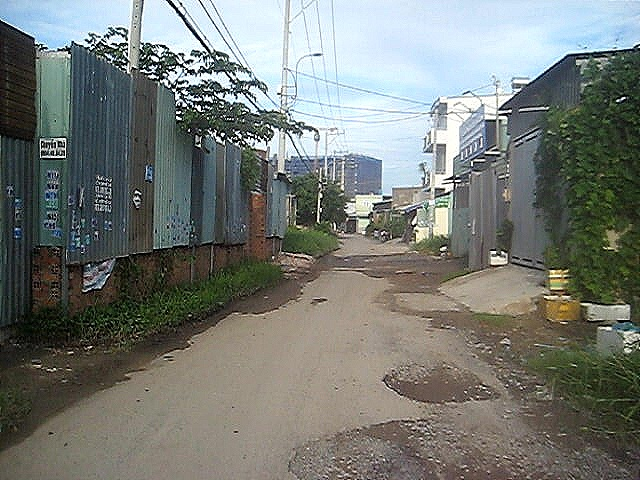hole: (287, 413, 561, 480), (381, 360, 500, 405), (357, 270, 427, 278), (333, 254, 399, 262)
